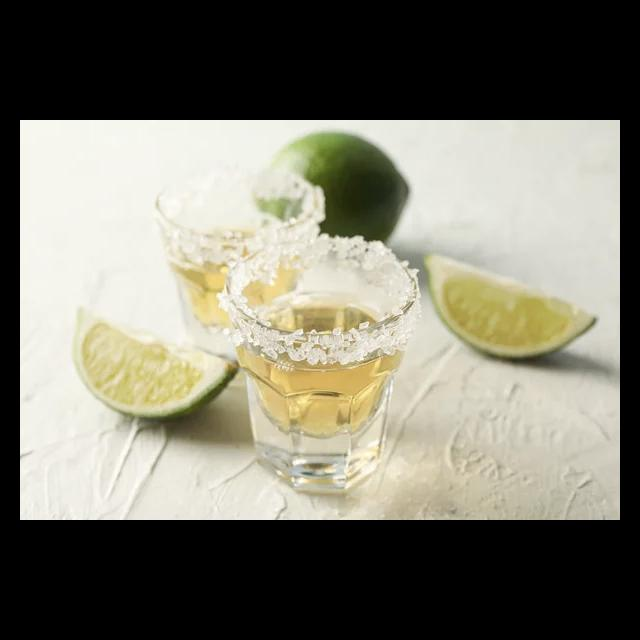lime: (238, 126, 418, 266)
